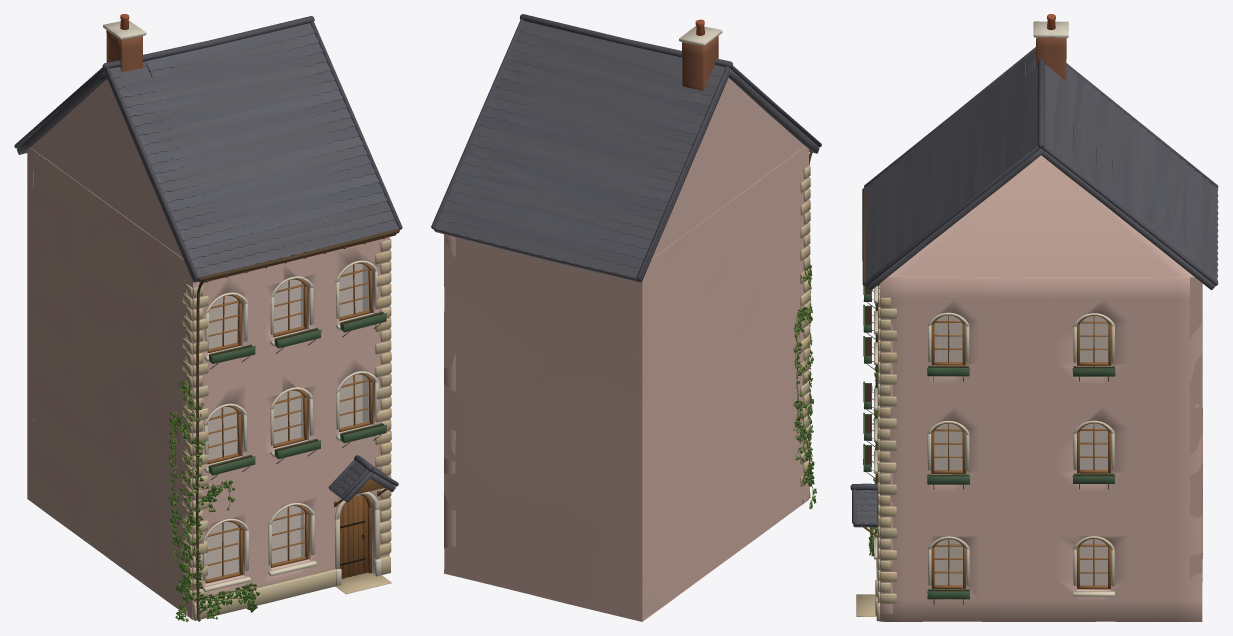
The model's file is StraightEnd_Outer1.glb.
3 renders of one model, left to right at view 1: azimuth 30°, elevation 25°; view 2: azimuth 150°, elevation 25°; view 3: azimuth 270°, elevation 25°, orthographic. The views are drawn at different scales.
Visible parts, largest first — view 1: Sammel Putz, Sammel Stein, Sammel Putz innen, Glas, Sammel Holz, Sammel Pflanze, Sammel Lack, Sammel Metall, Sammel Ziegel; view 2: Sammel Putz, Sammel Stein, Sammel Pflanze, Sammel Ziegel; view 3: Sammel Putz, Sammel Stein, Sammel Putz innen, Glas, Sammel Holz, Sammel Lack, Sammel Ziegel, Sammel Metall.
Part boxes in pixels (x1,y1,x2,y2): Sammel Putz: (27,14,389,619); Sammel Stein: (14,16,402,620); Sammel Putz innen: (206,263,368,579); Glas: (206,264,368,579); Sammel Holz: (199,234,396,583); Sammel Pflanze: (168,381,259,621); Sammel Lack: (208,311,387,475); Sammel Metall: (196,229,399,621); Sammel Ziegel: (106,30,142,71); Sammel Putz: (444,19,813,621); Sammel Stein: (431,14,821,498); Sammel Pflanze: (793,265,816,509); Sammel Ziegel: (682,36,718,90); Sammel Putz: (864,14,1202,621); Sammel Stein: (850,47,1218,621); Sammel Putz innen: (934,315,1108,585); Glas: (934,315,1107,585); Sammel Holz: (863,284,1111,589); Sammel Lack: (863,286,1115,599); Sammel Ziegel: (1036,37,1066,80); Sammel Metall: (862,188,1108,604).
Size of the model in its own units: 6.2 by 14.36 by 9.13.
